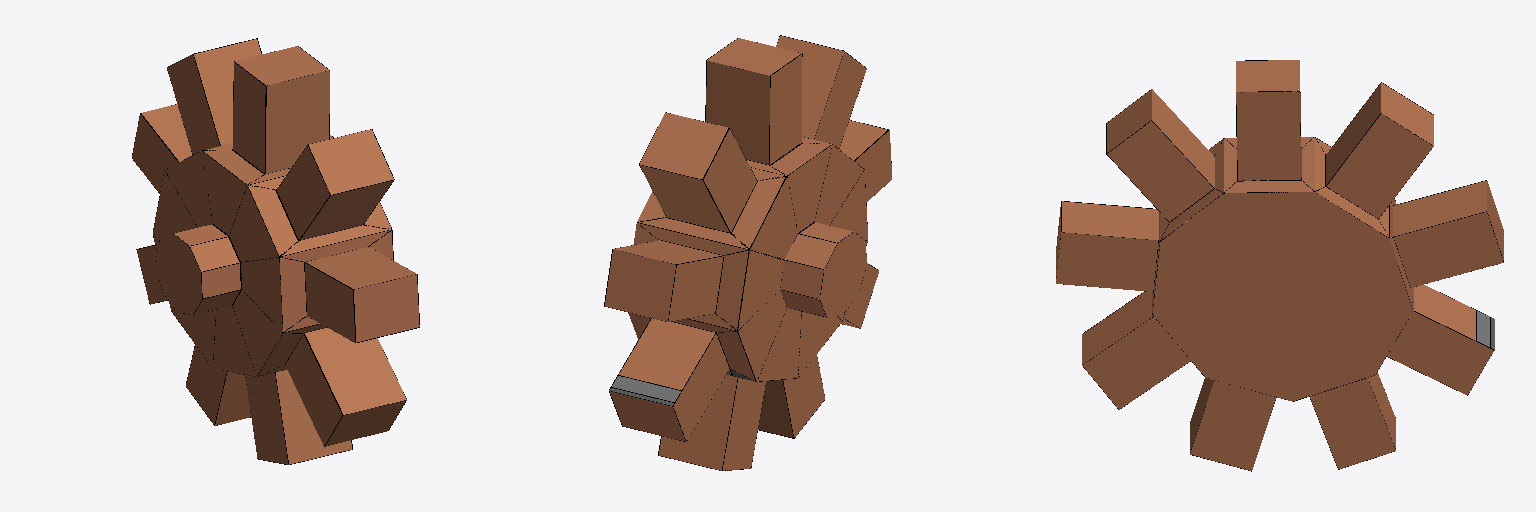
3 renders of one model, left to right at view 1: azimuth 30°, elevation 25°; view 2: azimuth 150°, elevation 25°; view 3: azimuth 270°, elevation 25°, orthographic.
Parts seen in each view (by area): view 1: furnace_gear_Cylinder.003; view 2: furnace_gear_Cylinder.003; view 3: furnace_gear_Cylinder.003.
Part boxes in pixels (left/top/right/bottom): furnace_gear_Cylinder.003: left=132, top=38, right=419, bottom=464; furnace_gear_Cylinder.003: left=604, top=35, right=891, bottom=470; furnace_gear_Cylinder.003: left=1056, top=60, right=1503, bottom=471.
Size of the model in its own units: 0.6296 by 1.5 by 1.6.
1 materials, 1 textured.